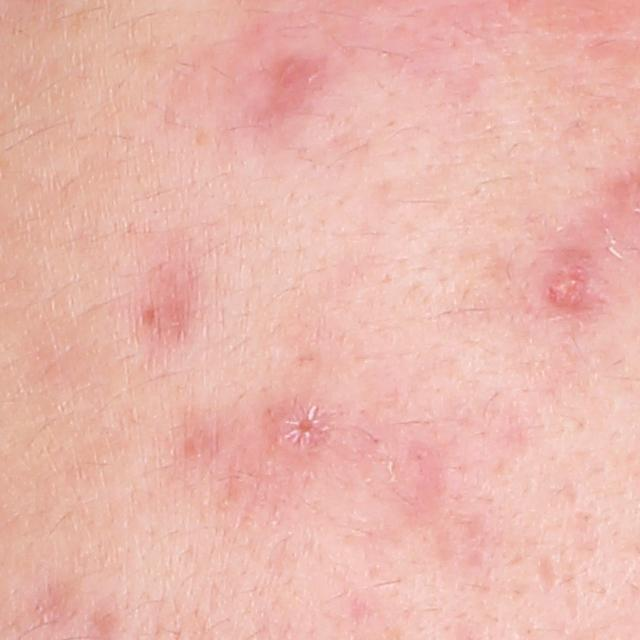atrophic_scar: (537, 552, 557, 599)
papule: (265, 400, 328, 451), (545, 265, 593, 308)
